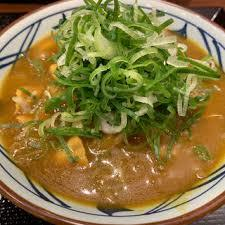curry: (1, 1, 225, 224)
